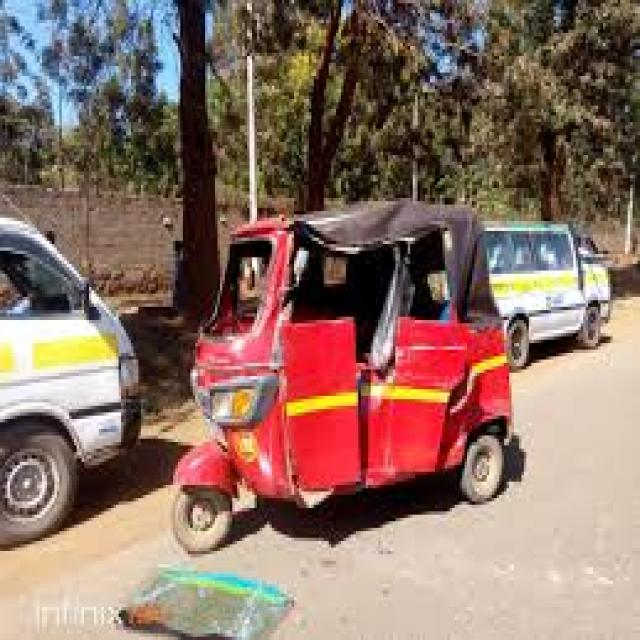matatu: (0, 180, 147, 542), (491, 204, 611, 366)
tuktuk: (170, 205, 492, 594)
